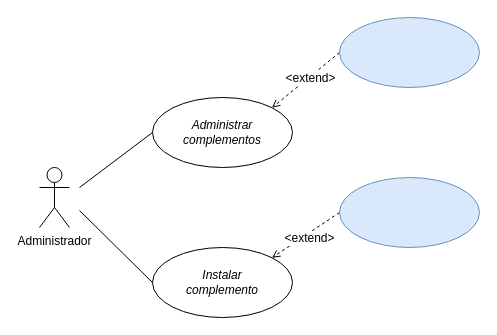
Image size: 497x335. Some labels were removed from this diagram. Here are the shapes that lost their labels. From the top down, the centre of each, then its label:
At (409,52): "CU-F01 Configurar esquema financiero".
At (409,212): "CU-F02 Modificar el esquema financiero".
